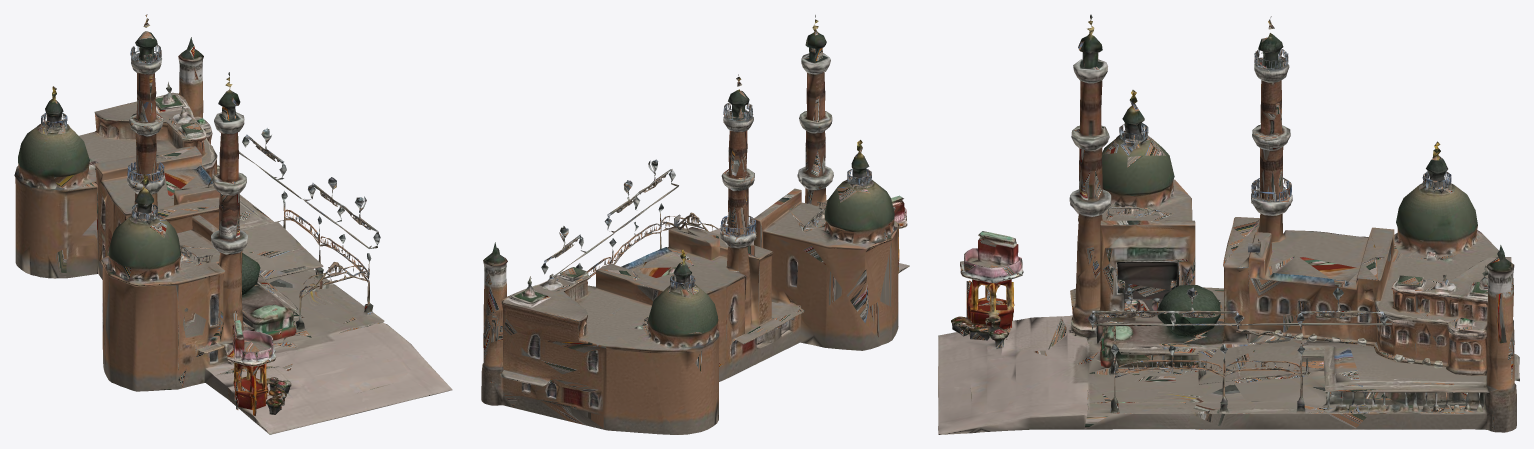
Rendered from urumqi-1.glb.
The picture shows the model from 3 angles, left to right: view 1: azimuth 30°, elevation 25°; view 2: azimuth 150°, elevation 25°; view 3: azimuth 270°, elevation 25°; orthographic projection. The views are drawn at different scales.
Parts seen in each view (by area): view 1: Urumqi architecture 1; view 2: Urumqi architecture 1; view 3: Urumqi architecture 1.
Part boxes in pixels (<box>): Urumqi architecture 1: <box>14,14,452,434</box>; Urumqi architecture 1: <box>481,15,909,434</box>; Urumqi architecture 1: <box>938,14,1519,434</box>.
Size of the model in its own units: 0.5605 by 0.6305 by 0.9836.
1 material, 1 textured.
